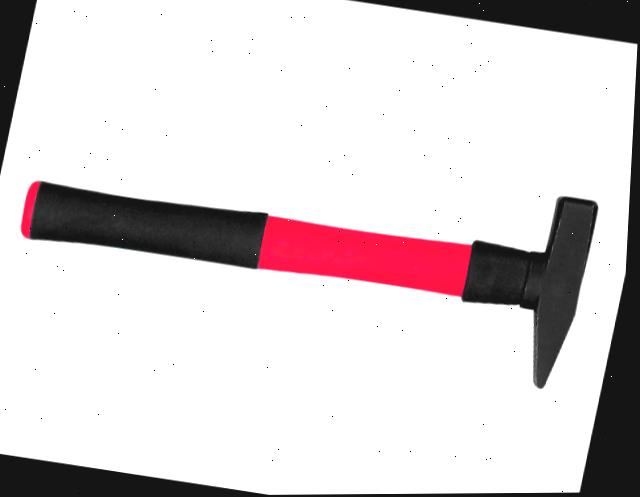hammer: (0, 103, 614, 403)
